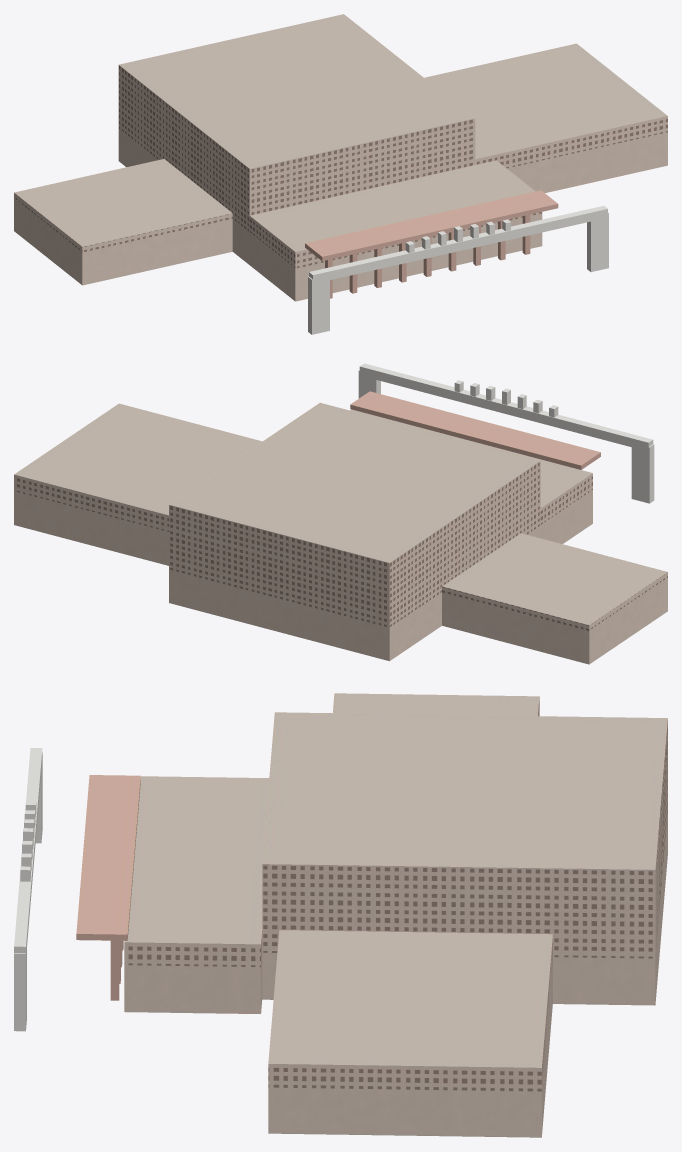
The model's file is lm_palais_culture.glb.
3 renders of one model, top to bottom at view 1: azimuth 30°, elevation 25°; view 2: azimuth 150°, elevation 25°; view 3: azimuth 270°, elevation 25°, orthographic. The views are drawn at different scales.
Parts seen in each view (by area): view 1: LM_Palais_Culture; view 2: LM_Palais_Culture; view 3: LM_Palais_Culture.
Boxes of the visible parts, x1=… form: LM_Palais_Culture: x1=14, y1=14, x2=667, y2=334; LM_Palais_Culture: x1=14, y1=363, x2=667, y2=664; LM_Palais_Culture: x1=14, y1=693, x2=667, y2=1137.
Bounding box in the file's own units: 0.35 × 0.0568 × 0.248.
1 material, 1 textured.
